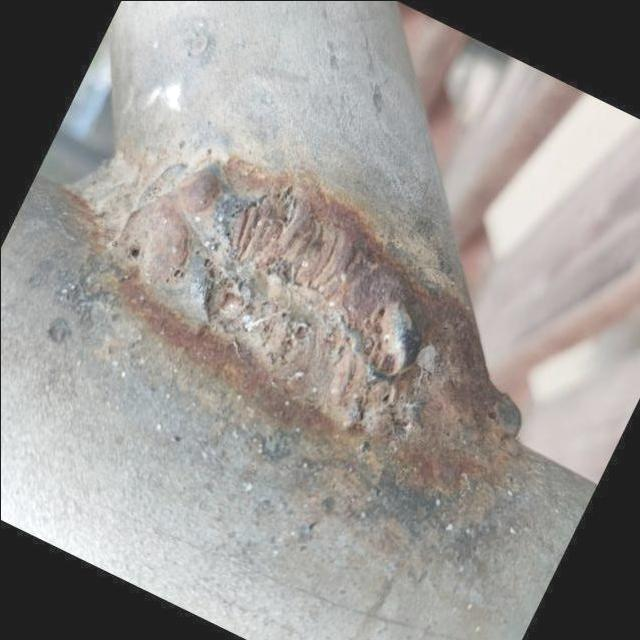defect: (216, 192, 294, 247), (195, 254, 250, 327), (356, 304, 399, 376), (248, 246, 292, 284), (274, 318, 308, 356), (159, 263, 186, 287), (122, 239, 143, 262), (376, 387, 394, 407), (356, 405, 368, 426)
